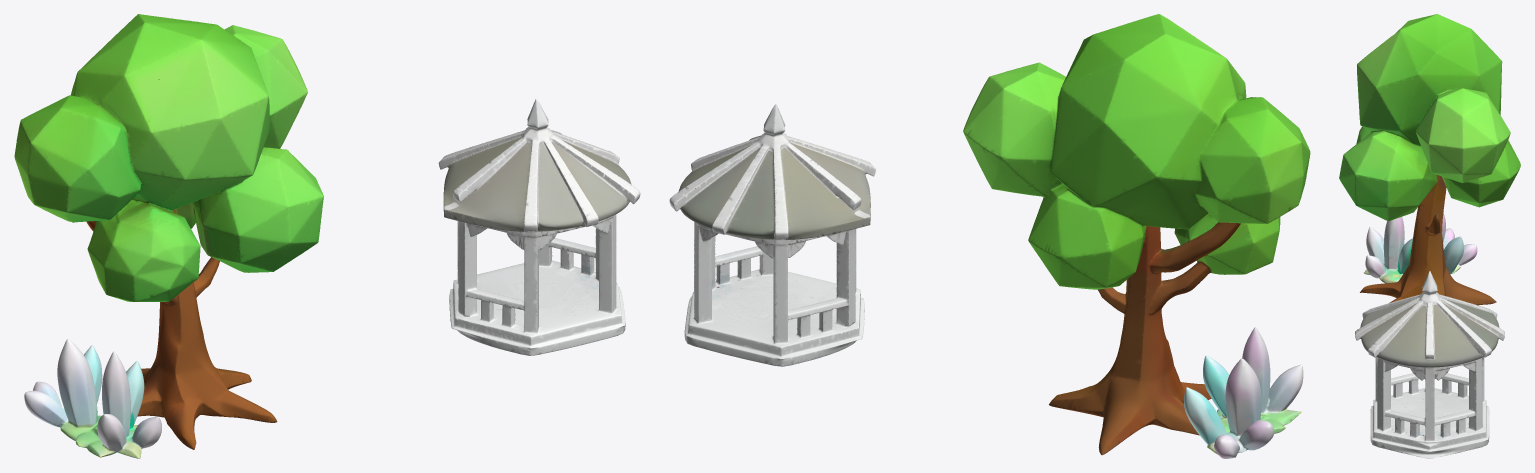
File: ARBOL + CASITA (1).fbx
3 renders of one model, left to right at view 1: azimuth 30°, elevation 25°; view 2: azimuth 150°, elevation 25°; view 3: azimuth 270°, elevation 25°, orthographic. The views are drawn at different scales.
Visible parts, largest first — view 1: Mesh_0; view 2: Mesh_0; view 3: Mesh_0.
Boxes of the visible parts, <box> form: Mesh_0: <box>14,14,640,458</box>; Mesh_0: <box>669,14,1310,458</box>; Mesh_0: <box>1339,14,1520,458</box>.
Bounding box in the file's own units: 190 × 118 × 69.09.
1 material, 1 textured.
